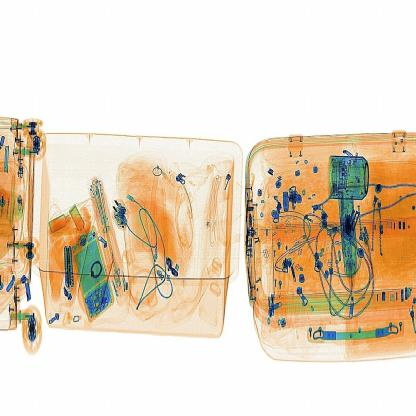scissors: (56, 240, 82, 302)
